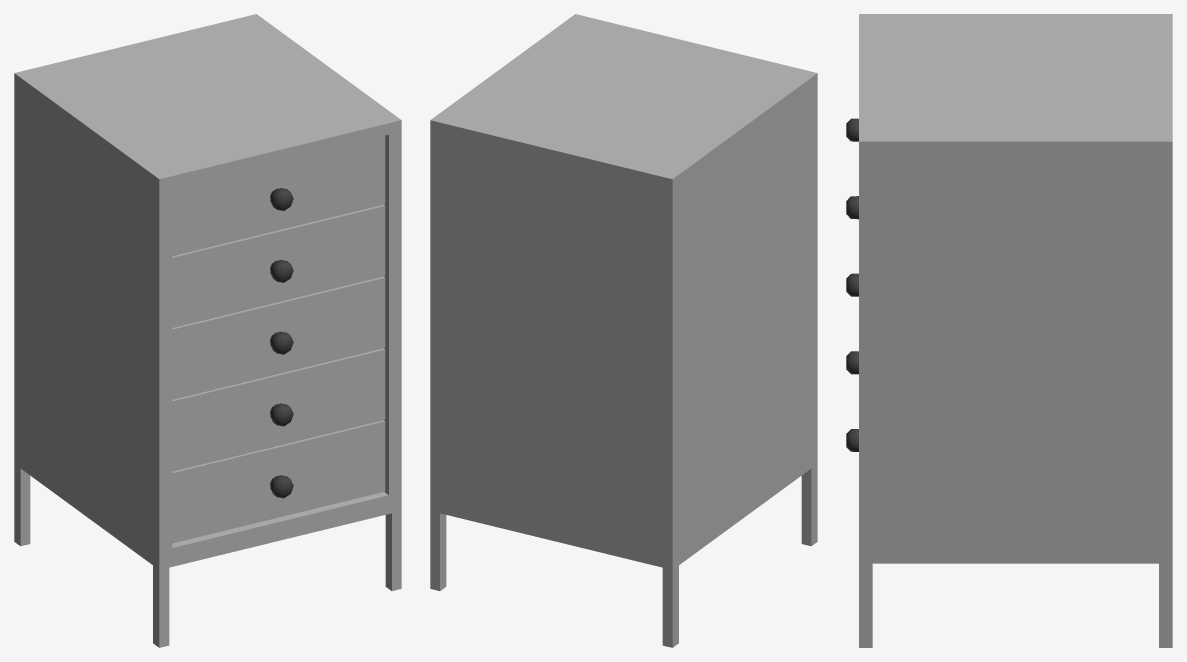
The model's file is Drawer_01.fbx.
3 renders of one model, left to right at view 1: azimuth 30°, elevation 25°; view 2: azimuth 150°, elevation 25°; view 3: azimuth 270°, elevation 25°, orthographic. The views are drawn at different scales.
Parts seen in each view (by area): view 1: Drawer_01; view 2: Drawer_01; view 3: Drawer_01.
Part boxes in pixels (x1=…): Drawer_01: x1=14, y1=14, x2=401, y2=647; Drawer_01: x1=430, y1=14, x2=817, y2=647; Drawer_01: x1=846, y1=14, x2=1172, y2=647.
Size of the model in its own units: 0.5389 by 0.9961 by 0.5814.
